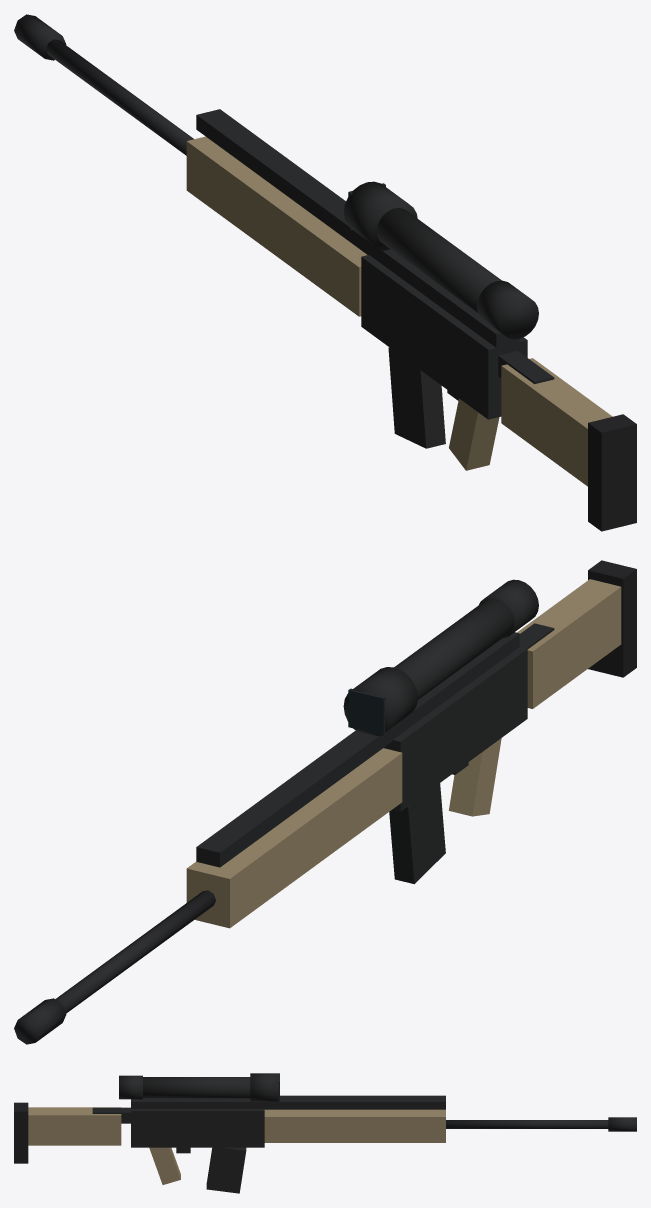
File: DMR_Blue.fbx
3 renders of one model, top to bottom at view 1: azimuth 30°, elevation 25°; view 2: azimuth 150°, elevation 25°; view 3: azimuth 270°, elevation 25°, orthographic. The views are drawn at different scales.
Parts seen in each view (by area): view 1: Handguard, Receiver, Rail, Stock, ButtPad, Scope, Magazine, Barrel, ScopeBellR, ScopeBellF, Grip, MuzzleDevice (+1 smaller); view 2: Handguard, Receiver, Rail, Stock, Scope, Magazine, Barrel, ButtPad, Grip, ScopeBellF, MuzzleDevice, ScopeBellR (+1 smaller); view 3: Handguard, Receiver, Rail, Stock, Scope, Magazine, Barrel, ButtPad, ScopeBellF, Grip, ScopeBellR, MuzzleDevice (+1 smaller).
Boxes of the visible parts, x1,y1,x2,y2 form: Handguard: (186, 136, 366, 316); Receiver: (361, 255, 527, 419); Rail: (196, 109, 519, 348); Stock: (501, 358, 612, 486); ButtPad: (588, 414, 636, 531); Scope: (376, 208, 501, 312); Magazine: (388, 347, 445, 448); Barrel: (46, 39, 193, 155); ScopeBellR: (477, 280, 538, 339); ScopeBellF: (343, 181, 417, 250); Grip: (449, 398, 499, 470); MuzzleDevice: (14, 14, 66, 60); Handguard: (186, 748, 402, 928); Receiver: (384, 647, 527, 811); Rail: (196, 632, 519, 867); Stock: (517, 579, 621, 708); Scope: (394, 598, 514, 699); Magazine: (389, 783, 445, 884); Barrel: (55, 890, 215, 1013); ButtPad: (588, 560, 636, 677); Grip: (448, 738, 501, 816); ScopeBellF: (343, 667, 417, 736); MuzzleDevice: (14, 998, 66, 1044); ScopeBellR: (479, 579, 538, 638); Handguard: (264, 1109, 445, 1142); Receiver: (131, 1109, 264, 1147); Rail: (131, 1095, 445, 1109); Stock: (28, 1107, 121, 1145); Scope: (143, 1077, 250, 1098); Magazine: (206, 1147, 246, 1193); Barrel: (446, 1120, 608, 1128); ButtPad: (14, 1102, 28, 1163); ScopeBellF: (250, 1073, 278, 1101); Grip: (149, 1147, 180, 1184); ScopeBellR: (119, 1075, 142, 1099); MuzzleDevice: (608, 1117, 636, 1131).
Size of the model in its own units: 6 by 131 by 26.94.
